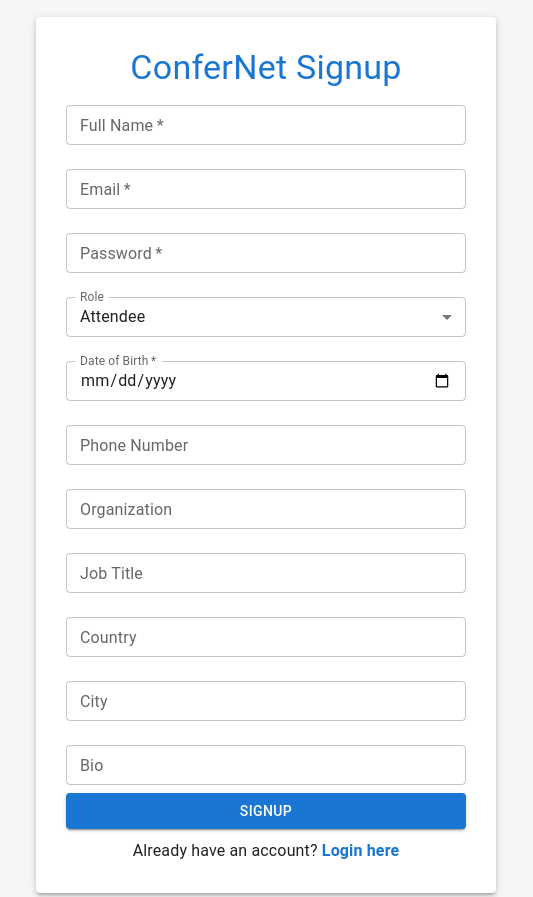
Test: Signup Component › test-id: 15, shows success message and navigates after successful signup
Type "John Doe" into the field labelled "Full Name *".
click(266, 125); type("John Doe")  # box top-left (66, 105), bottom-right (466, 145)
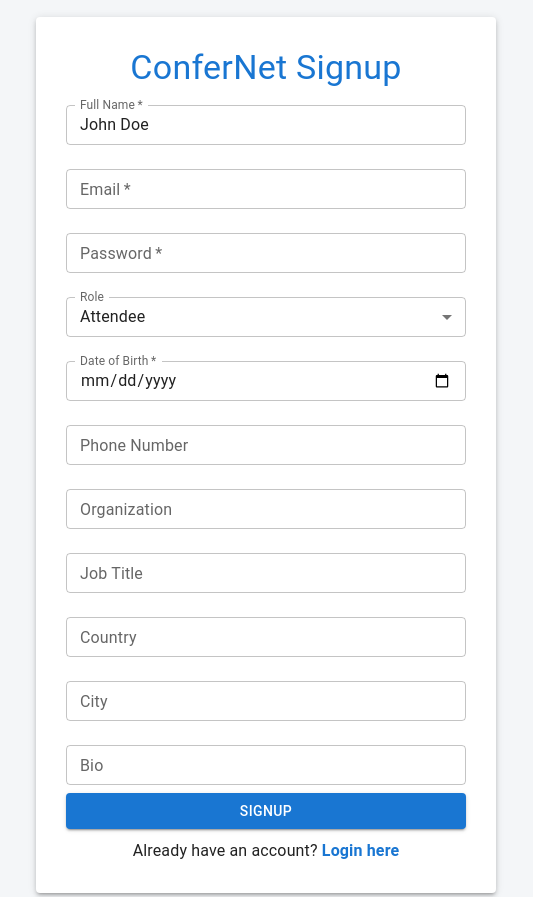
Type "john@example.com" into the field labelled "Email *".
click(266, 189); type("john@example.com")  # box top-left (66, 169), bottom-right (466, 209)
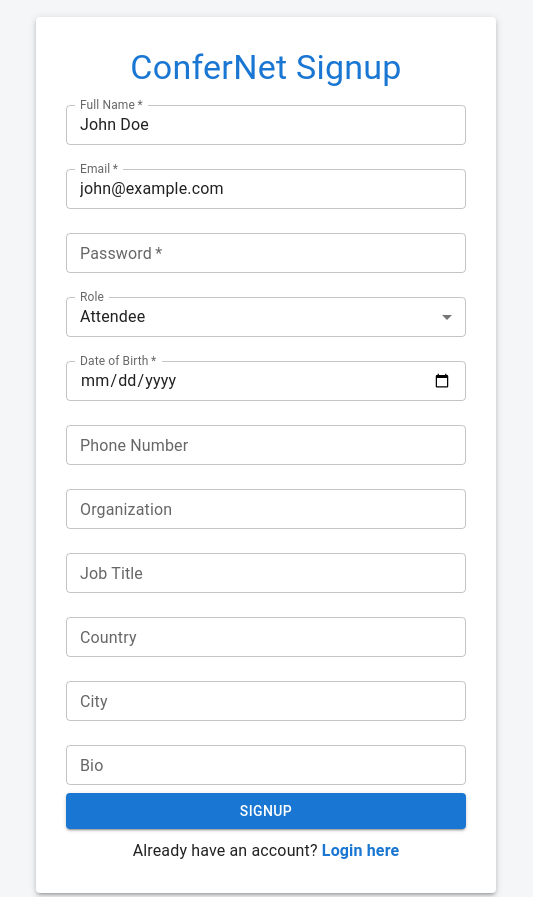
Type "password123" into the password field labelled "Password *".
click(266, 253); type("password123")  # box top-left (66, 233), bottom-right (466, 273)
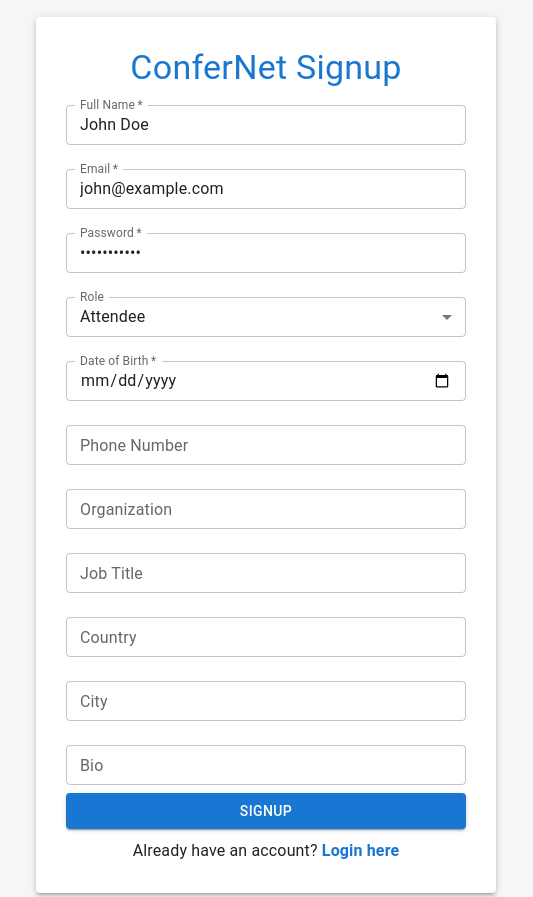
Type "2000-01-01" into the date field labelled "Date of Birth *".
click(266, 381); type("2000-01-01")  # box top-left (66, 361), bottom-right (466, 401)
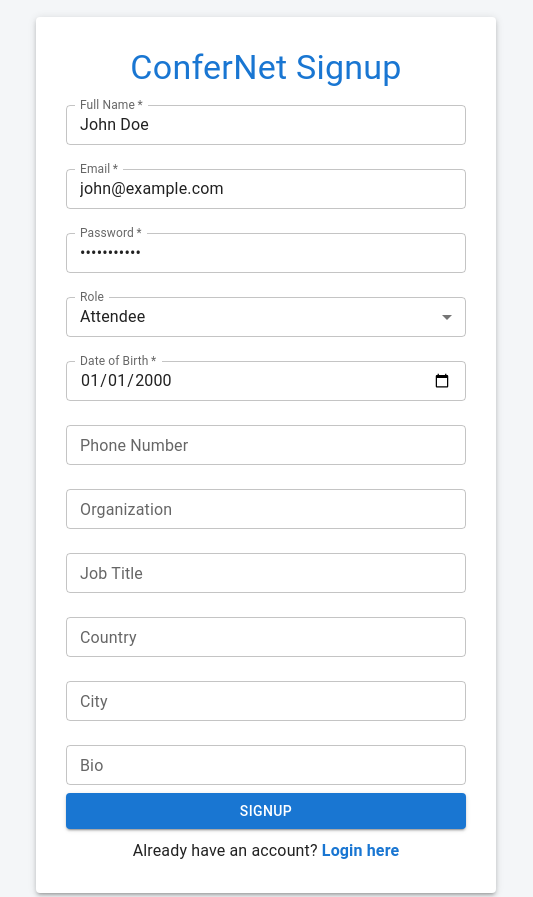
Click the button "Signup".
click(266, 811)  # box top-left (66, 793), bottom-right (466, 829)
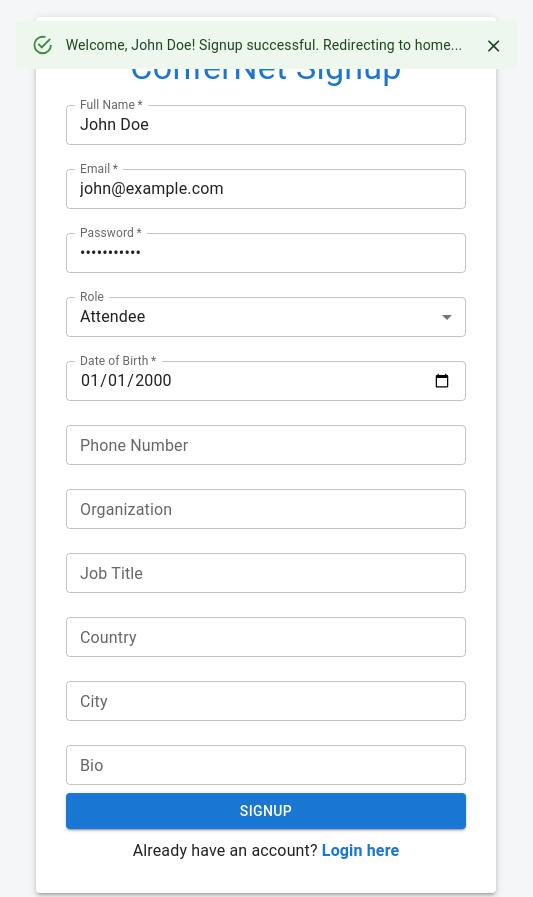
Expected: the text "Welcome, John Doe! Signup successful. Redirecting to home..." is shown, top-left (66, 37), bottom-right (462, 53)
